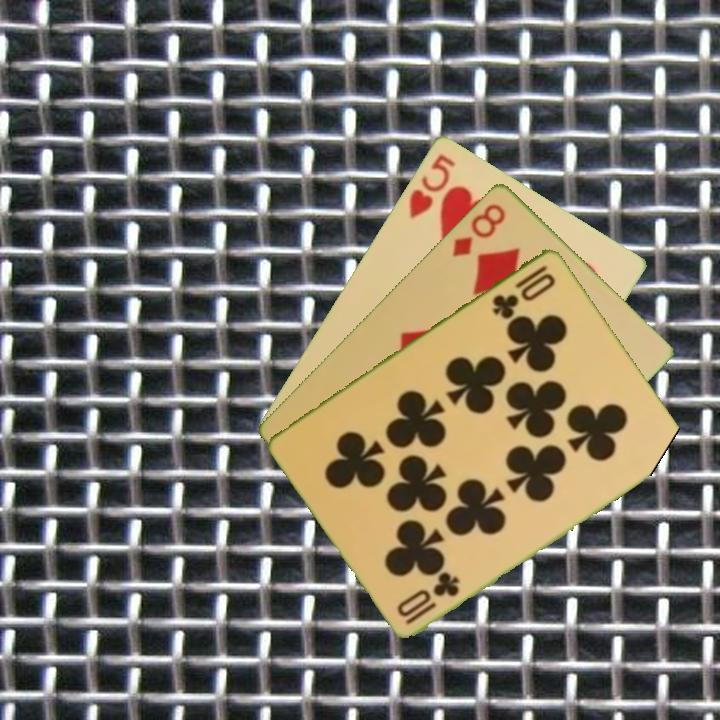10c: (489, 261, 559, 321), (402, 568, 463, 627)
5h: (405, 149, 458, 222)
8d: (448, 199, 509, 260)
